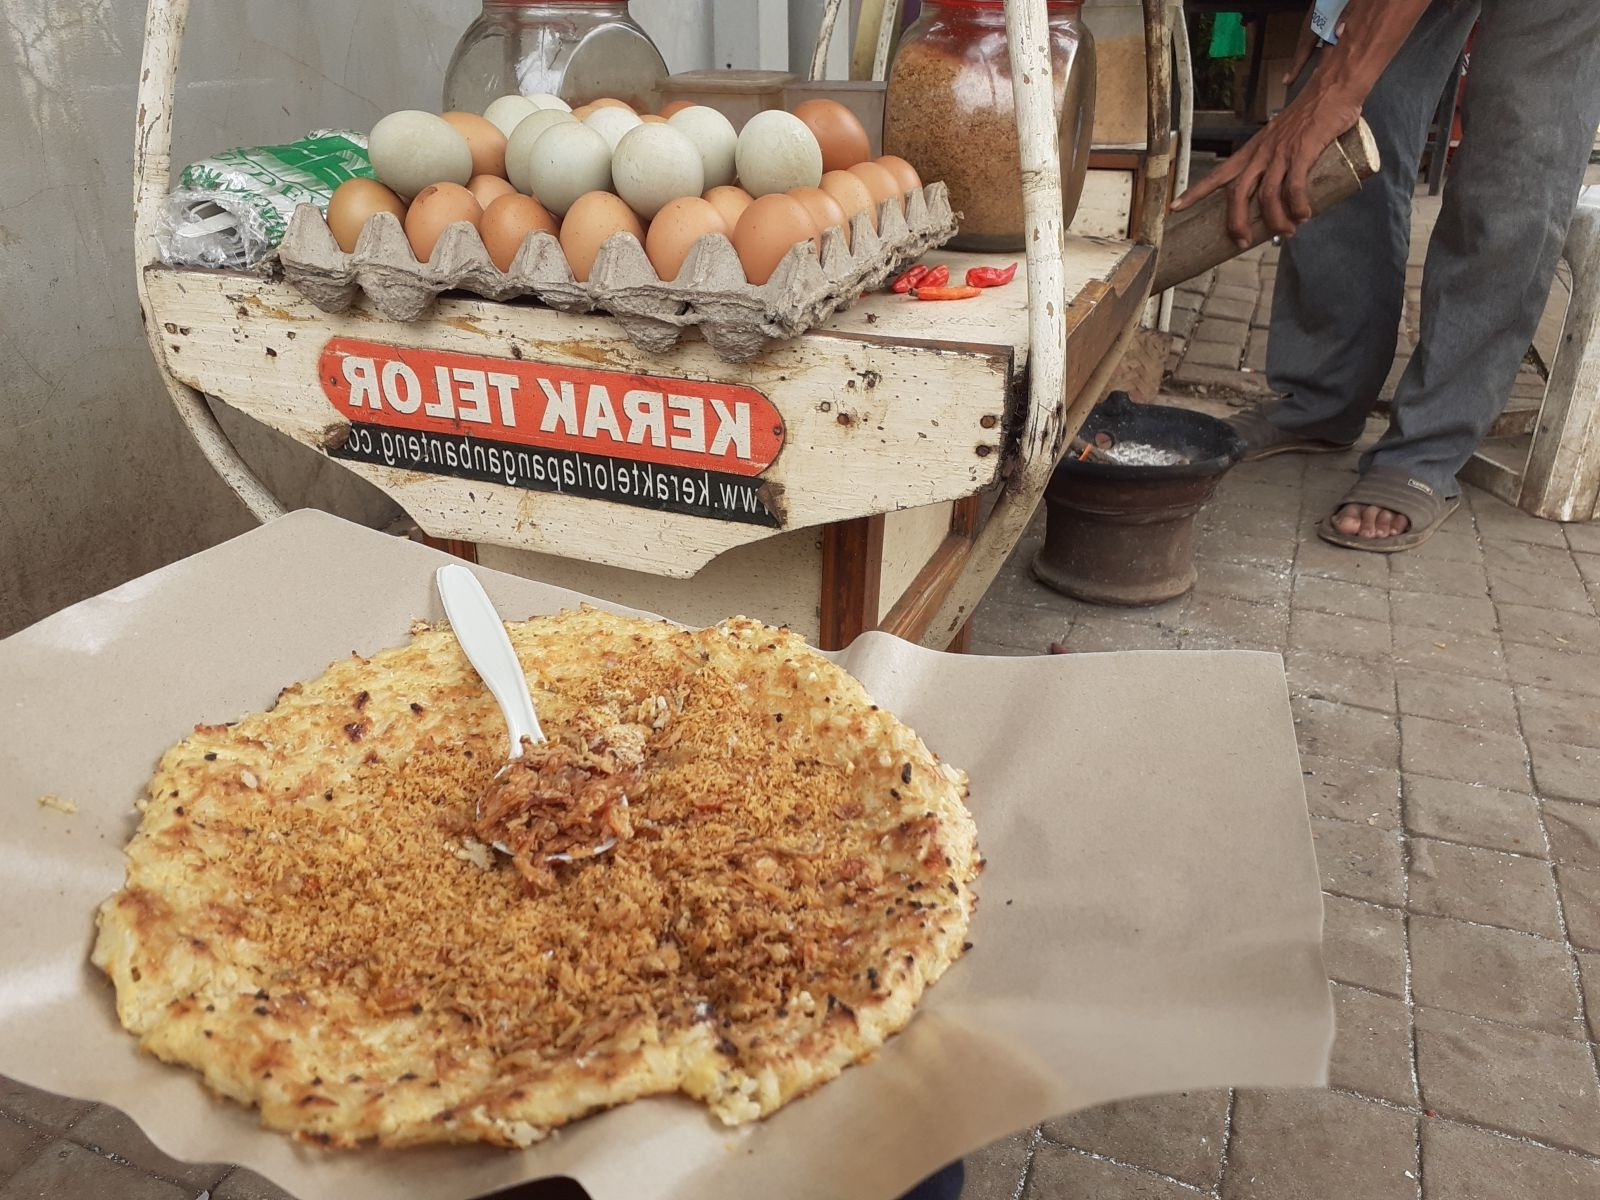kerak_telor: (81, 608, 979, 1150)
